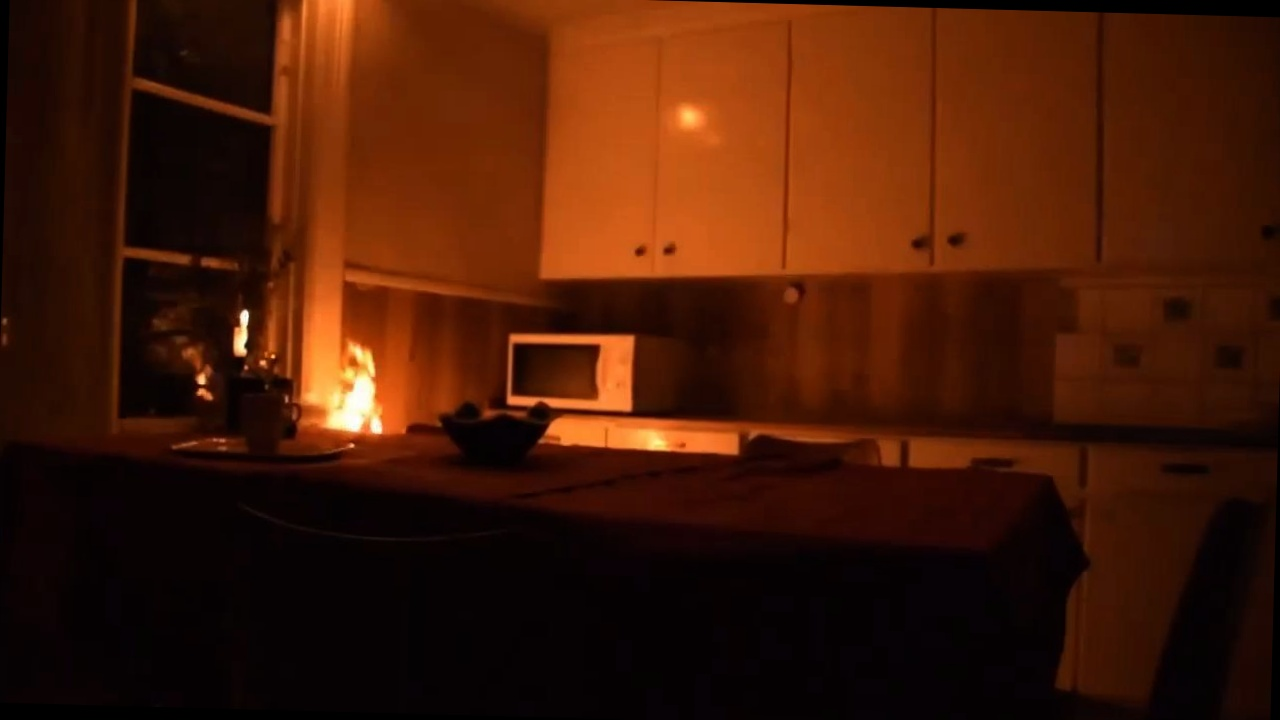fire: (295, 293, 434, 477)
